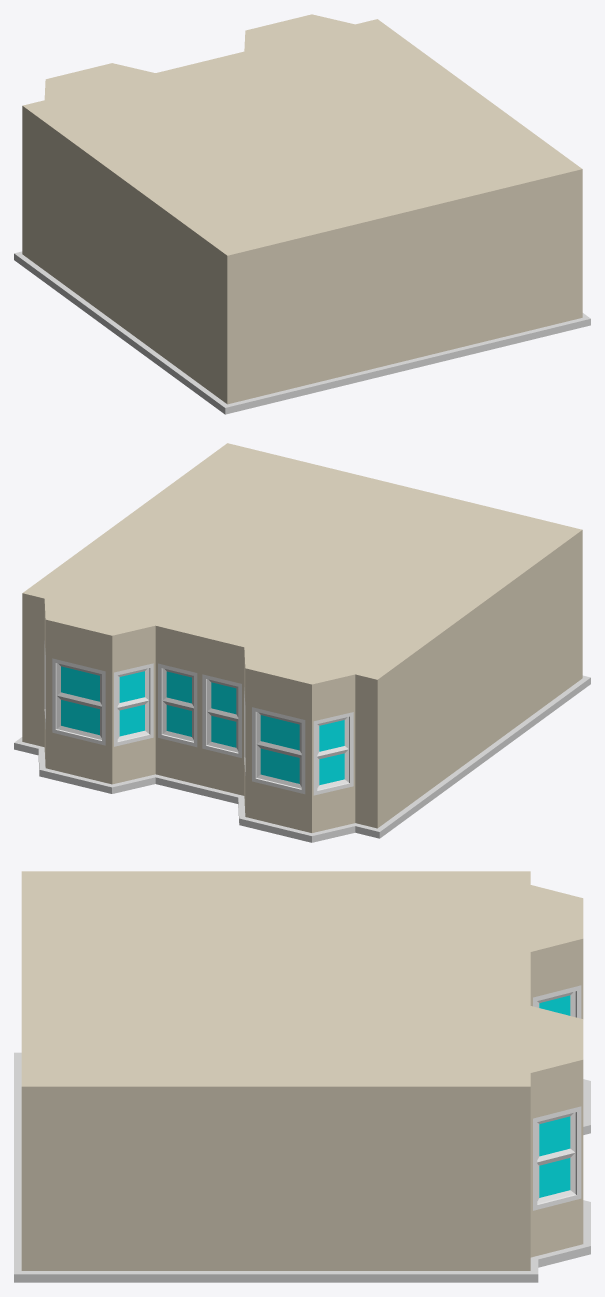
The model's file is double_bay_1st_floor.fbx.
The picture shows the model from 3 angles, top to bottom: view 1: azimuth 30°, elevation 25°; view 2: azimuth 150°, elevation 25°; view 3: azimuth 270°, elevation 25°; orthographic projection. The views are drawn at different scales.
Parts seen in each view (by area): view 1: Plane; view 2: Plane; view 3: Plane.
Boxes of the visible parts, x1=… form: Plane: x1=14, y1=14, x2=590, y2=414; Plane: x1=14, y1=443, x2=590, y2=842; Plane: x1=14, y1=871, x2=590, y2=1282.
Size of the model in its own units: 1030 by 418 by 1133.
